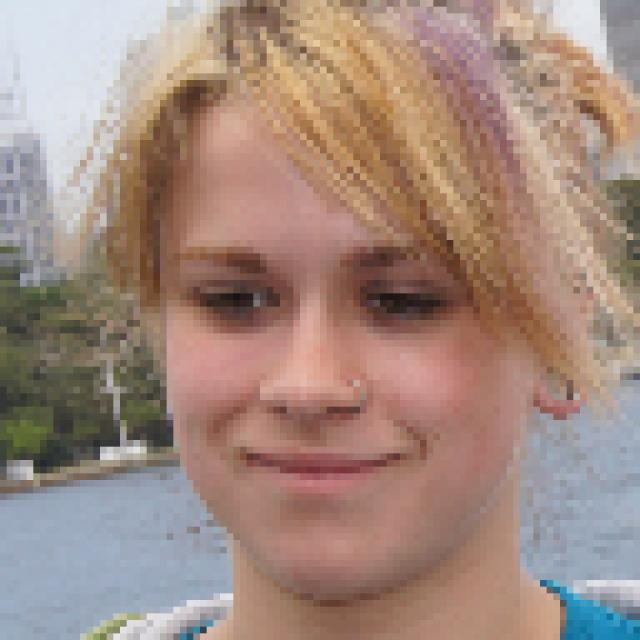happy: (140, 13, 573, 640)
